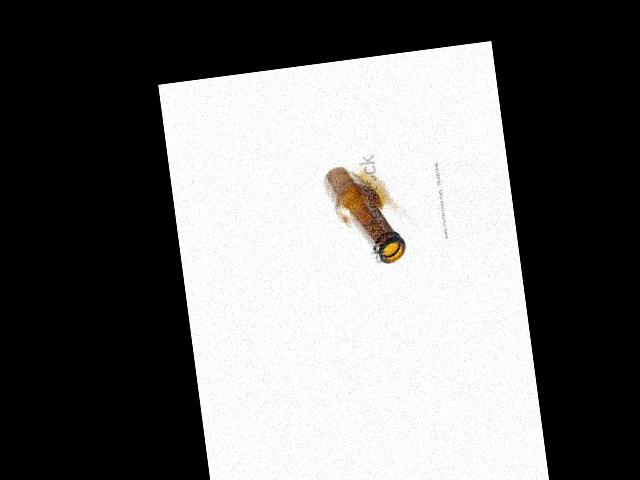beer: (322, 159, 408, 270)
